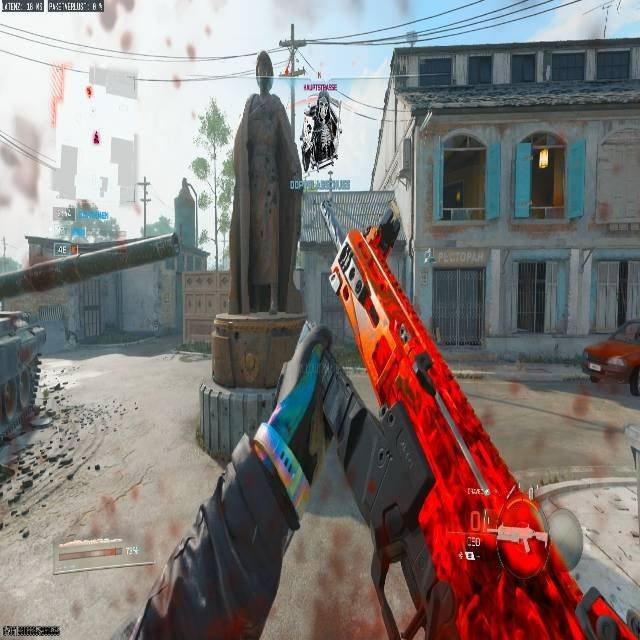player: (305, 94, 340, 167), (322, 199, 334, 229)
